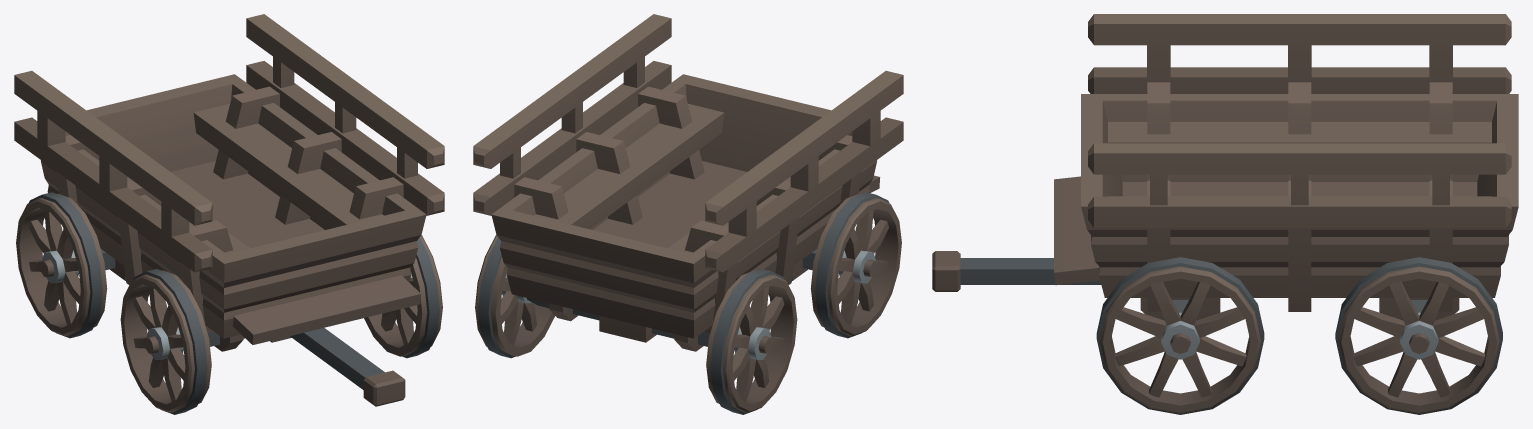
The model's file is vehicle_wagon.glb.
3 views of the same model, side by side, from view 1: azimuth 30°, elevation 25°; view 2: azimuth 150°, elevation 25°; view 3: azimuth 270°, elevation 25° (orthographic). The views are drawn at different scales.
Visible parts, largest first — view 1: Cube.748, wagon_wheel_front_right, wagon_wheel_rear_right, wagon_wheel_front_left; view 2: Cube.748, wagon_wheel_front_right, wagon_wheel_rear_right, wagon_wheel_rear_left; view 3: Cube.748, wagon_wheel_rear_left, wagon_wheel_front_left.
Part boxes in pixels (<box>): Cube.748: <box>14,14,444,406</box>; wagon_wheel_front_right: <box>120,269,211,414</box>; wagon_wheel_rear_right: <box>16,192,107,338</box>; wagon_wheel_front_left: <box>364,235,442,358</box>; Cube.748: <box>473,14,903,351</box>; wagon_wheel_front_right: <box>810,192,901,338</box>; wagon_wheel_rear_right: <box>706,269,797,414</box>; wagon_wheel_rear_left: <box>475,235,554,358</box>; Cube.748: <box>932,14,1518,320</box>; wagon_wheel_rear_left: <box>1335,257,1502,414</box>; wagon_wheel_front_left: <box>1096,257,1264,414</box>.
Size of the model in its own units: 2.97 by 2.47 by 4.99.
Materials: 1 (1 with a texture image).
